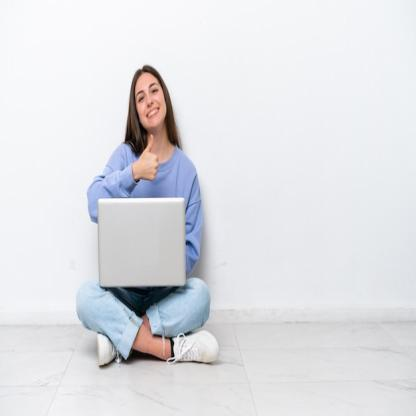thumb_up: (132, 132, 162, 184)
